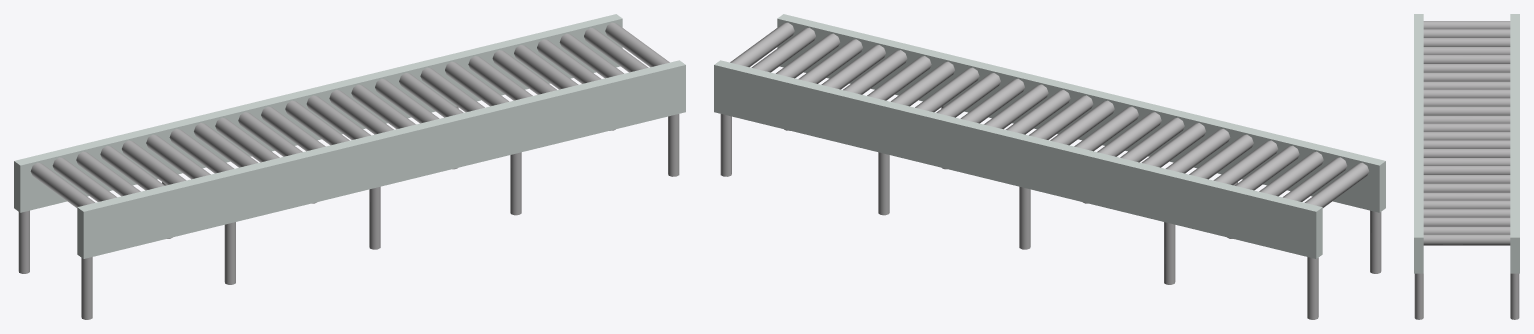
The model's file is conveyor.gltf.
3 views of the same model, side by side, from view 1: azimuth 30°, elevation 25°; view 2: azimuth 150°, elevation 25°; view 3: azimuth 270°, elevation 25° (orthographic). The views are drawn at different scales.
Parts seen in each view (by area): view 1: SM_Transporter_404; view 2: SM_Transporter_404; view 3: SM_Transporter_404.
Part boxes in pixels (bbox=[...]): SM_Transporter_404: bbox=[14, 14, 685, 319]; SM_Transporter_404: bbox=[714, 14, 1385, 319]; SM_Transporter_404: bbox=[1414, 14, 1519, 319].
Size of the model in its own units: 4 by 0.6972 by 0.8.
1 material, 1 textured.
